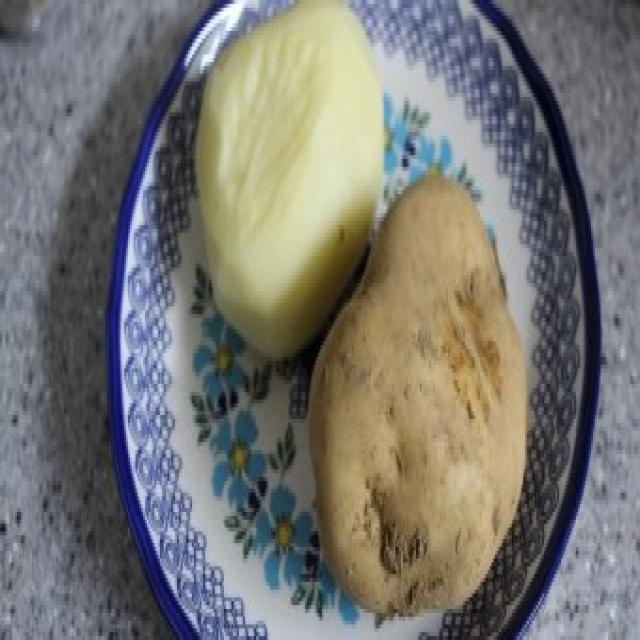potato: (304, 161, 532, 618), (194, 0, 388, 360)
